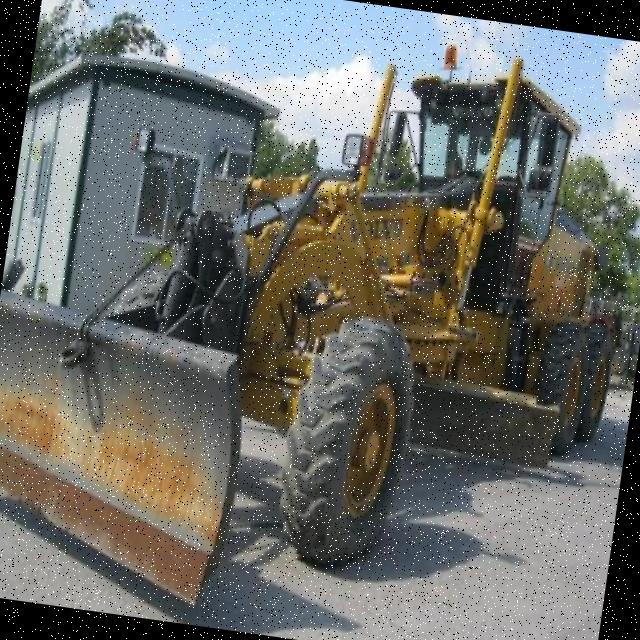Grader: (73, 0, 640, 603)
